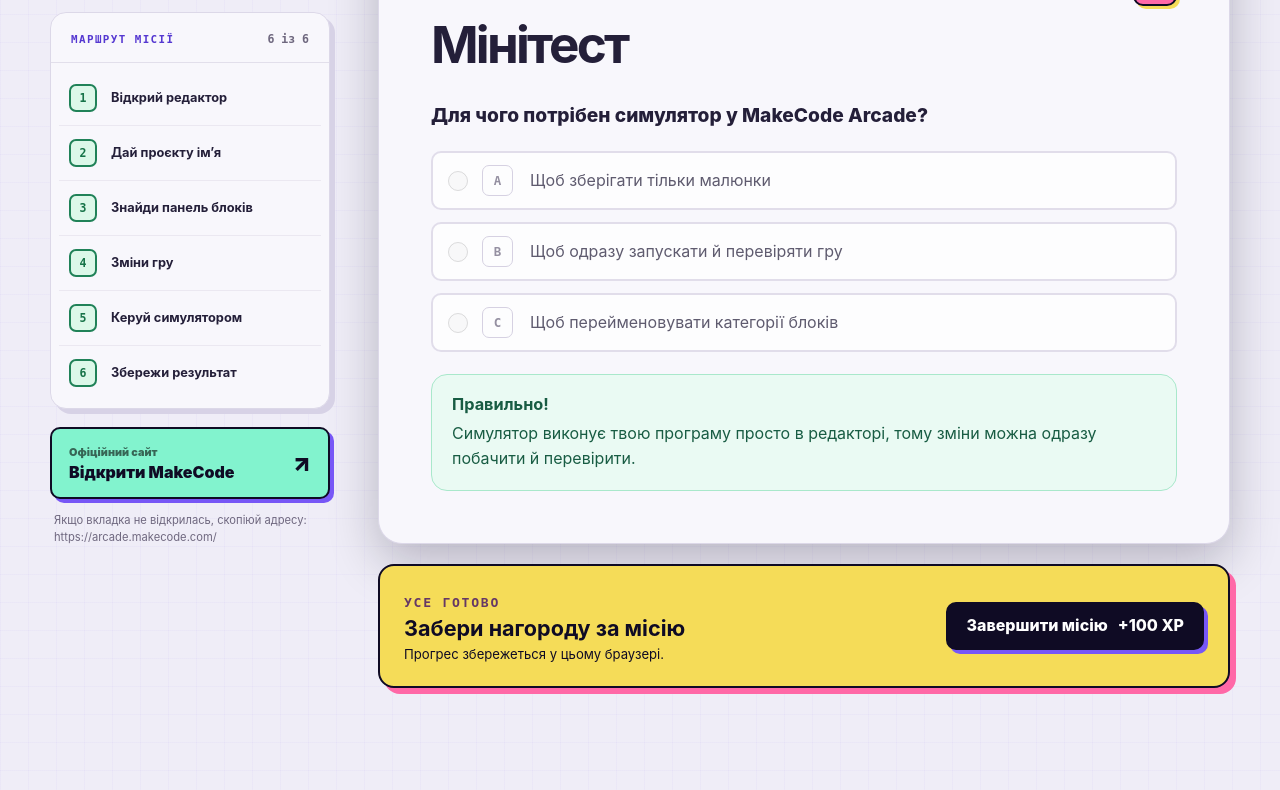
Test: LessonScreen › C01-006: shows the corrected reward sentence only after explicit completion
The width and height of the screenshot is (1280, 790).
(page scrolled)
Expected: the text "Ти виконав усі кроки, пройшов випробування й правильно відповів на мінітест." is not shown
Click the button "Завершити місію +100 XP".
click(1075, 626)  # box [946,602,1204,650]
(page scrolled)
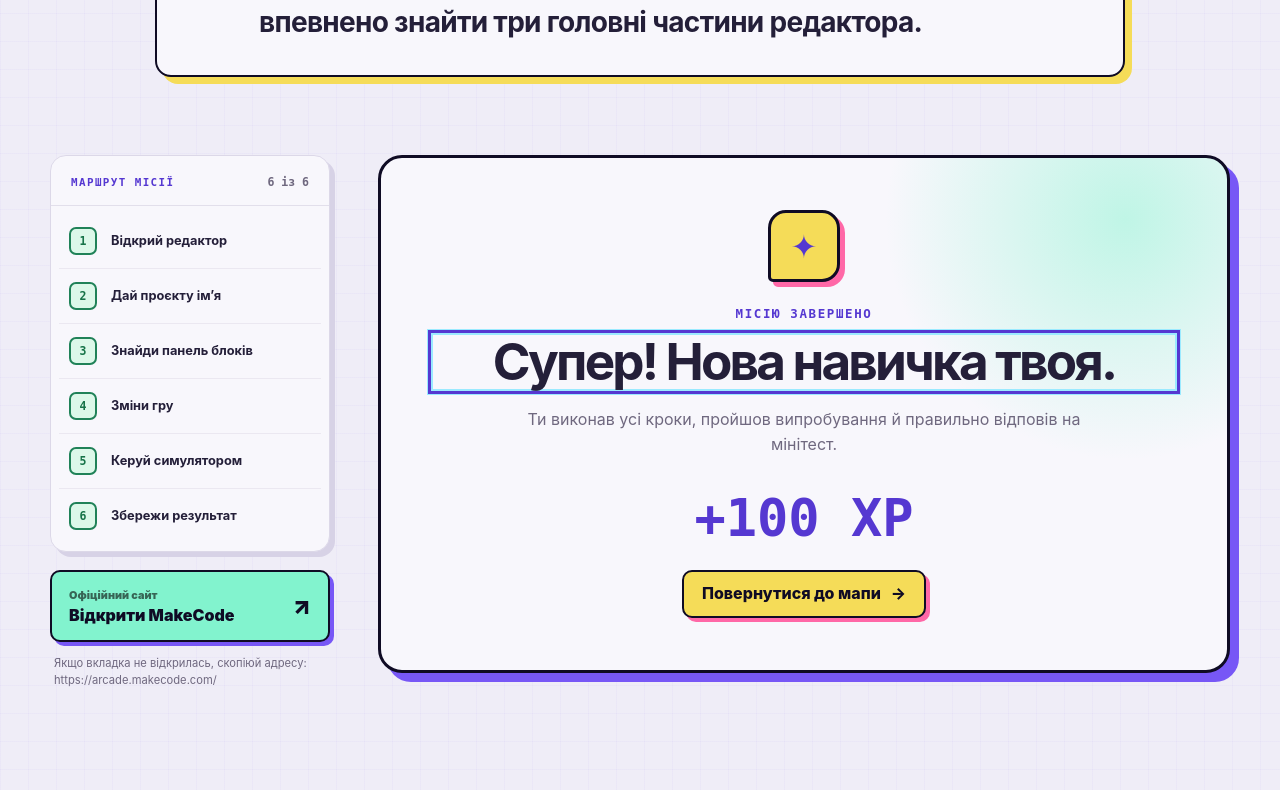
Expected: the text "Ти виконав усі кроки, пройшов випробування й правильно відповів на мінітест." is shown, [499,407,1109,458]
